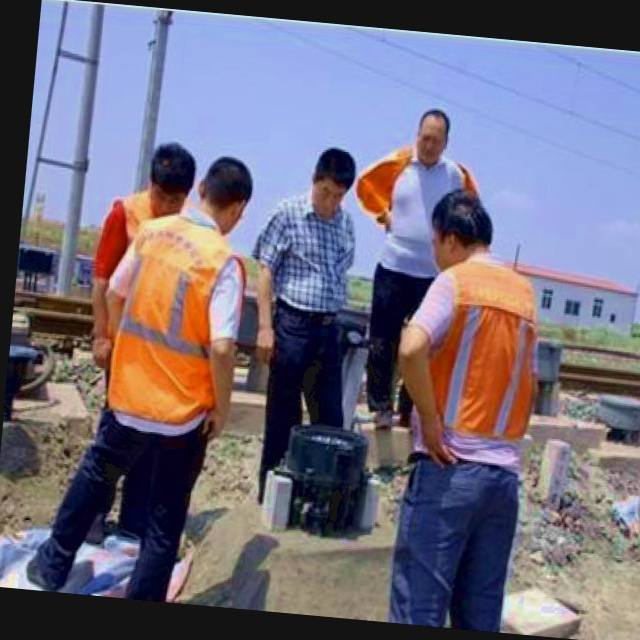Con_Chaleco: (101, 212, 252, 436), (408, 253, 547, 465)
Sin_Chaleco: (265, 198, 361, 325)
